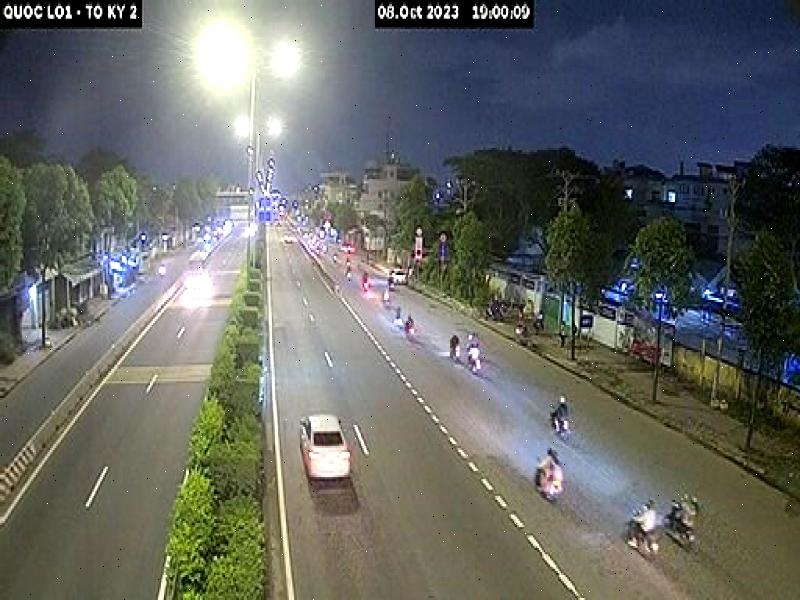car: (297, 408, 353, 486)
motorcycle: (664, 502, 698, 562), (623, 513, 663, 563), (530, 462, 564, 507)
